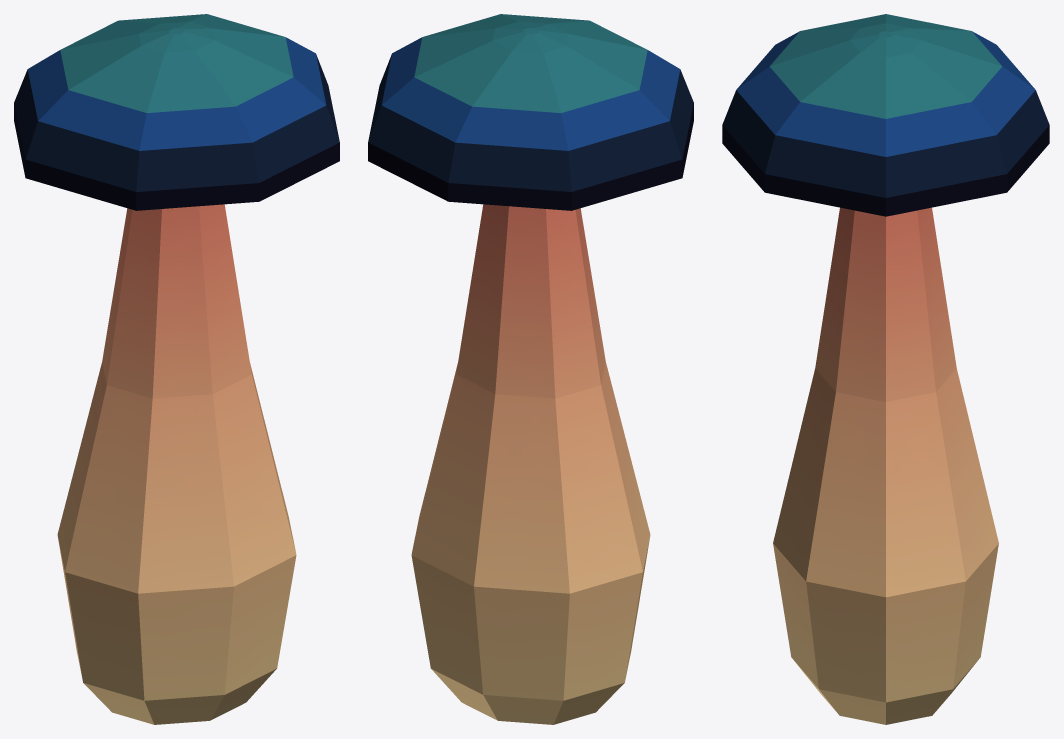
The model's file is Cavern_Mushroom_Toll03.fbx.
3 renders of one model, left to right at view 1: azimuth 30°, elevation 25°; view 2: azimuth 150°, elevation 25°; view 3: azimuth 270°, elevation 25°, orthographic.
Visible parts, largest first — view 1: Cylinder.210; view 2: Cylinder.210; view 3: Cylinder.210.
Part boxes in pixels (x1=…): Cylinder.210: x1=14, y1=14, x2=339, y2=724; Cylinder.210: x1=368, y1=14, x2=693, y2=724; Cylinder.210: x1=722, y1=14, x2=1049, y2=724.
Size of the model in its own units: 19.05 by 39.98 by 17.99.
